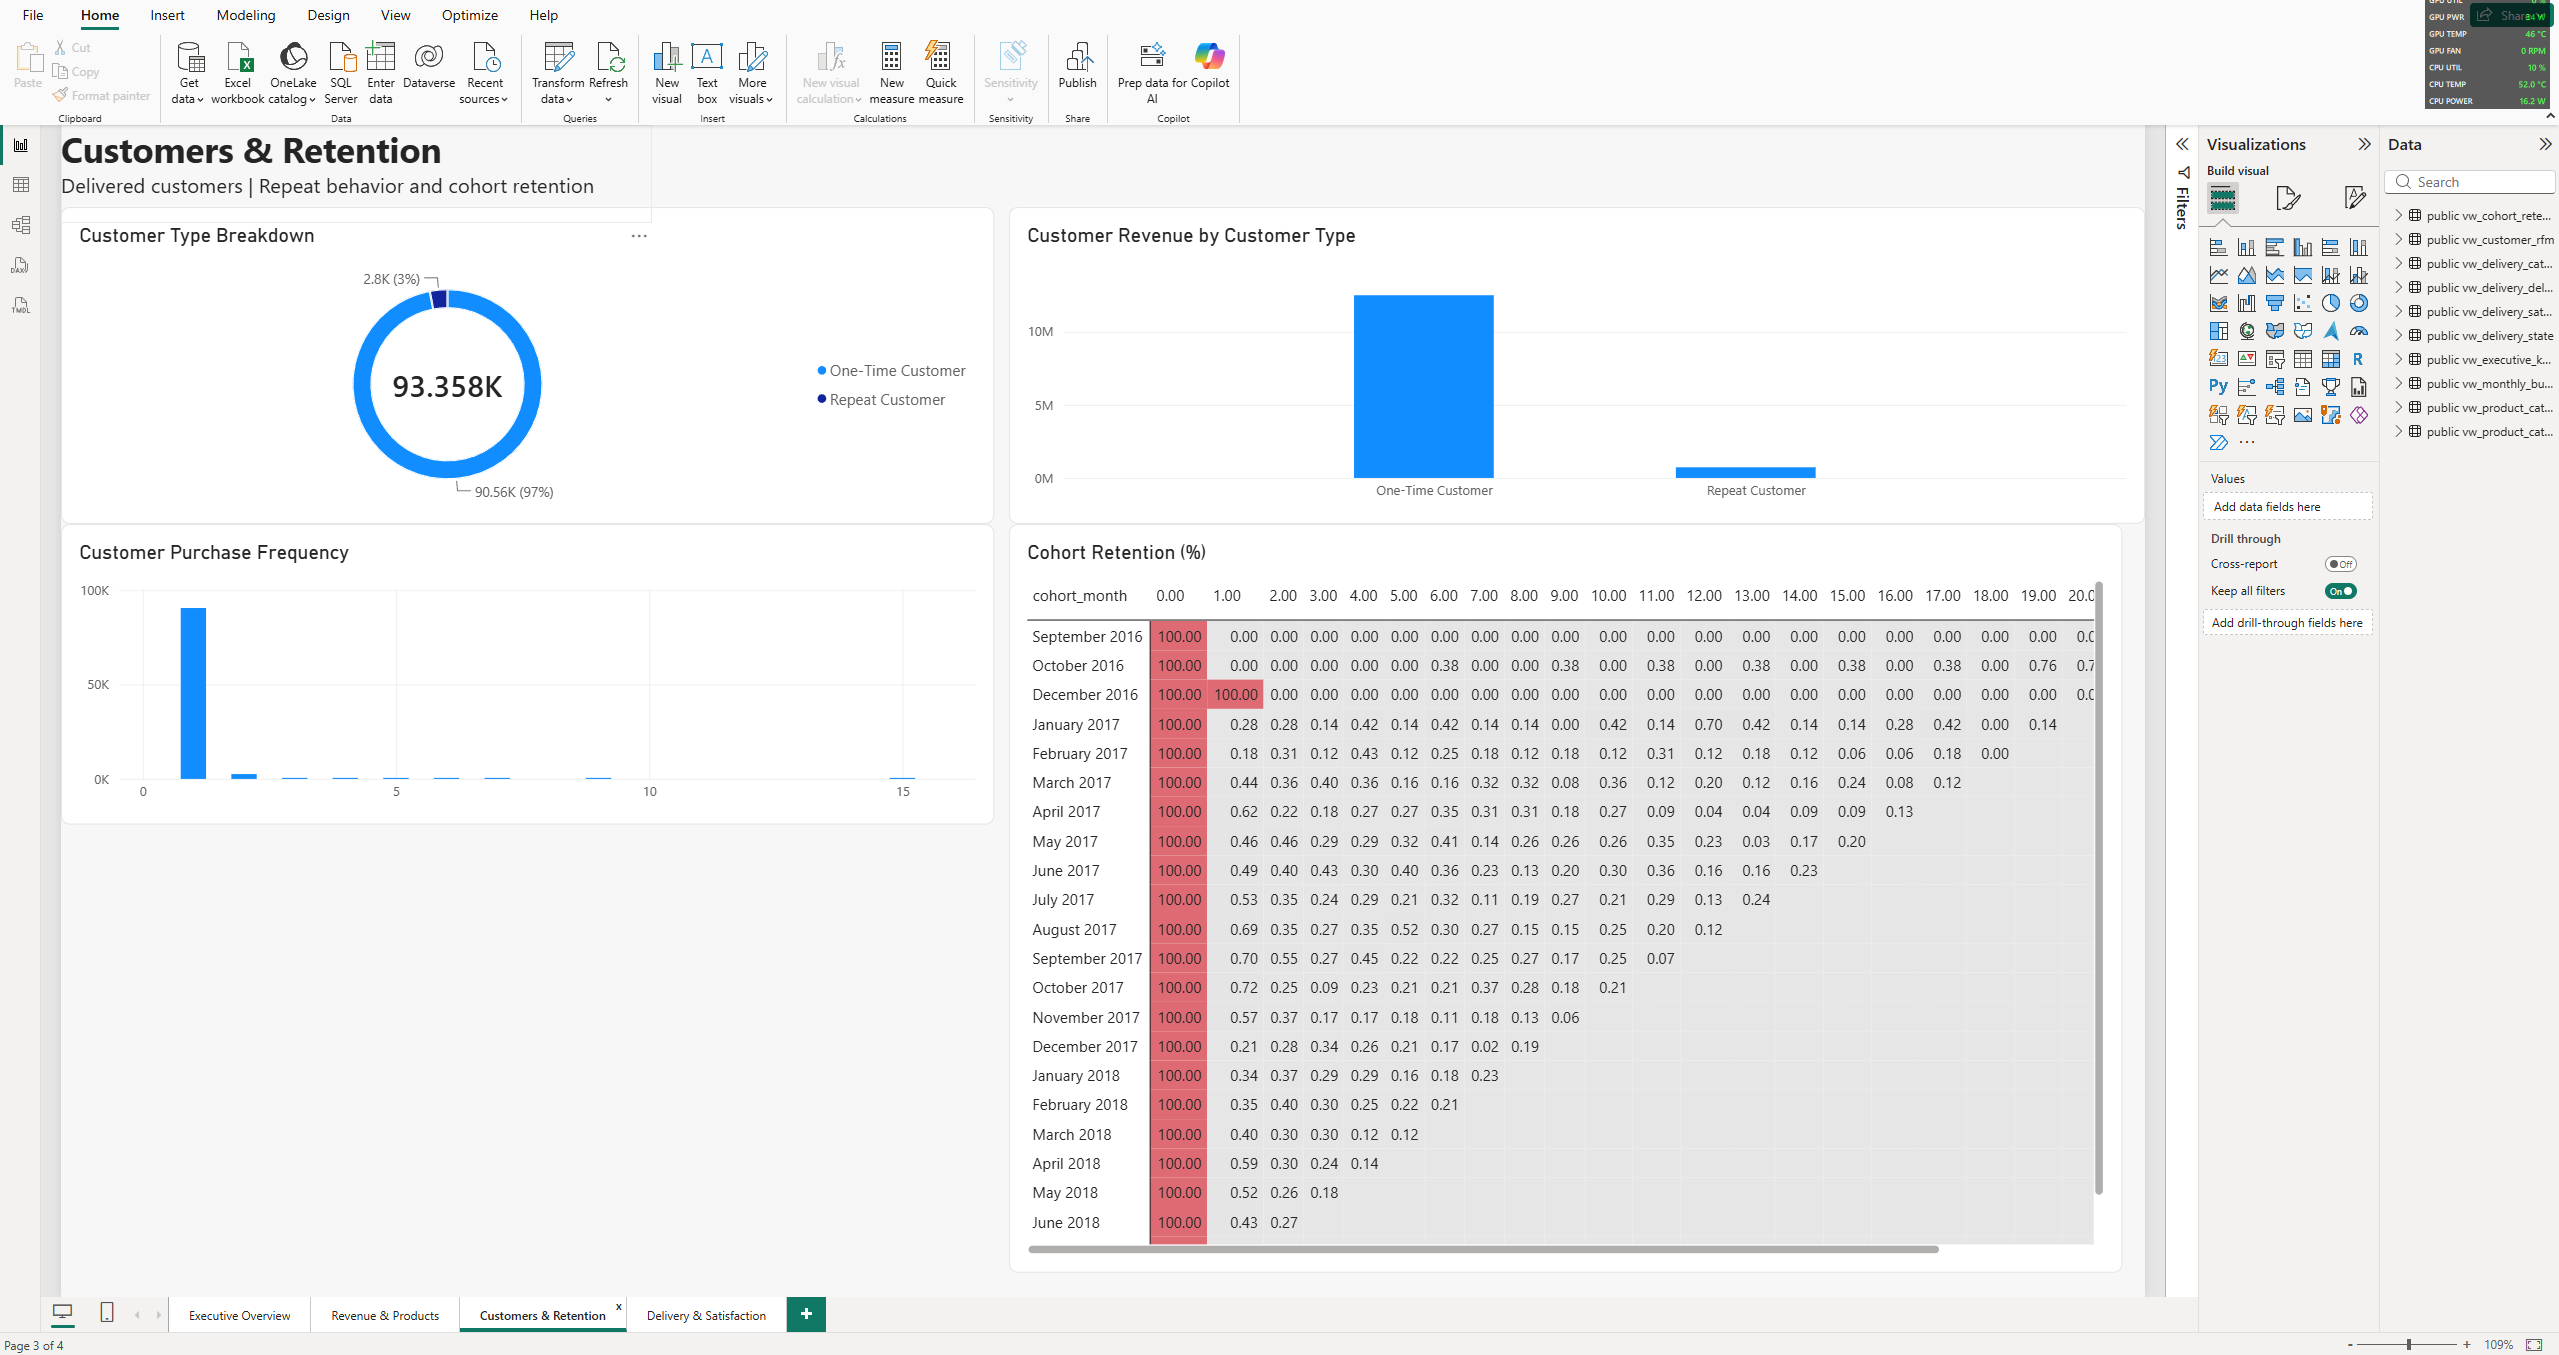

The dashboard page shown, as its layout file describes it:
{"tool":"powerbi","page":{"name":"Customers & Retention","canvas":[1920,1080],"ordinal":2},"visuals":[{"type":"donutChart","title":"Customer Type Breakdown","fields":{"Category":["public vw_customer_rfm.customer_type"],"Y":["CountNonNull(public vw_customer_rfm.customer_unique_id)"]},"box":[0,75.7,860.3,291.7],"z":0},{"type":"clusteredColumnChart","title":"Customer Revenue by Customer Type","fields":{"Category":["public vw_customer_rfm.customer_type"],"Y":["Sum(public vw_customer_rfm.monetary_value)"]},"box":[873.2,75.7,1046.8,291.7],"z":1000},{"type":"clusteredColumnChart","title":"Customer Purchase Frequency","fields":{"Category":["public vw_customer_rfm.frequency"],"Y":["Count(public vw_customer_rfm.customer_unique_id)"]},"box":[0,367.4,860.3,276.9],"z":2000},{"type":"pivotTable","title":"Cohort Retention (%)","fields":{"Columns":["public vw_cohort_retention_powerbi.month_number"],"Rows":["public vw_cohort_retention_powerbi.cohort_month"],"Values":["Avg(public vw_cohort_retention_powerbi.retention_pct)"]},"box":[873.2,367.4,1026.5,690.5],"z":3000},{"type":"textbox","box":[0,0,544.6,90.5],"z":3001}]}

Visuals, with their boxes on the page's 1920x1080 design canvas (x1, y1, x2, y2). These are canvas units, not pixel positions in the 2559x1355 screenshot, which may show the page scaled, cropped or inside an application window:
"Customer Type Breakdown" donutChart: 0,76,860,367
"Customer Revenue by Customer Type" clusteredColumnChart: 873,76,1920,367
"Customer Purchase Frequency" clusteredColumnChart: 0,367,860,644
"Cohort Retention (%)" pivotTable: 873,367,1900,1058
textbox: 0,0,545,90
